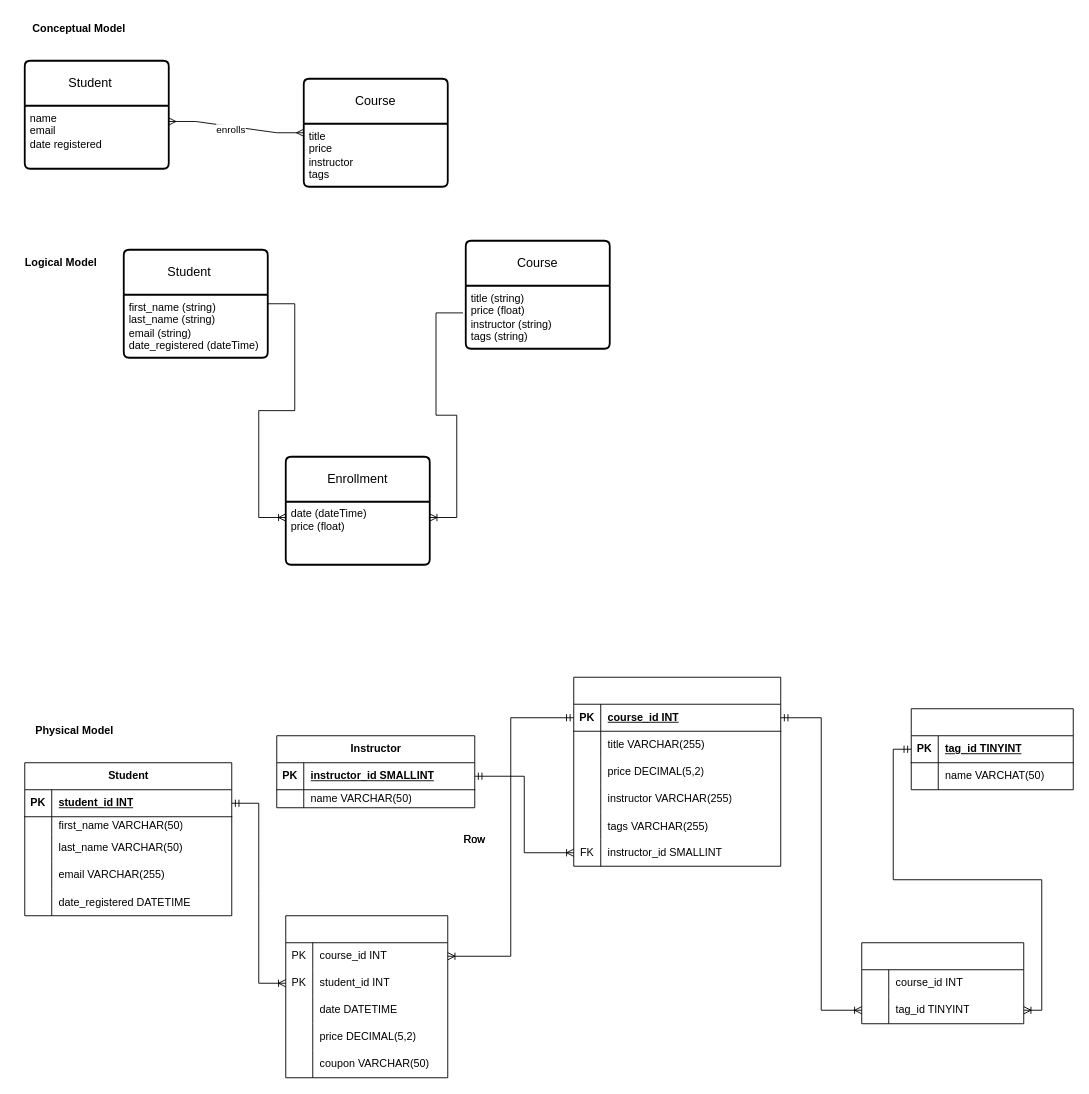
Image size: 1089x1094. Some labels were removed from this diagram. The shapes that lost their labels are listed below. From the top down, each one's box as (x1, y1, x2, y2) in pixels, then its label:
(910, 708, 1073, 790): Tags
(573, 676, 781, 866): Courses
(285, 915, 448, 1078): Enrollments
(861, 942, 1024, 1024): Course Tags
